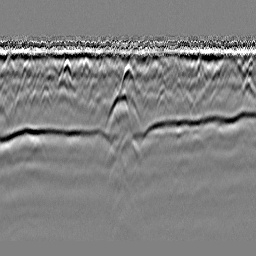cavity: (118, 62, 137, 93)
